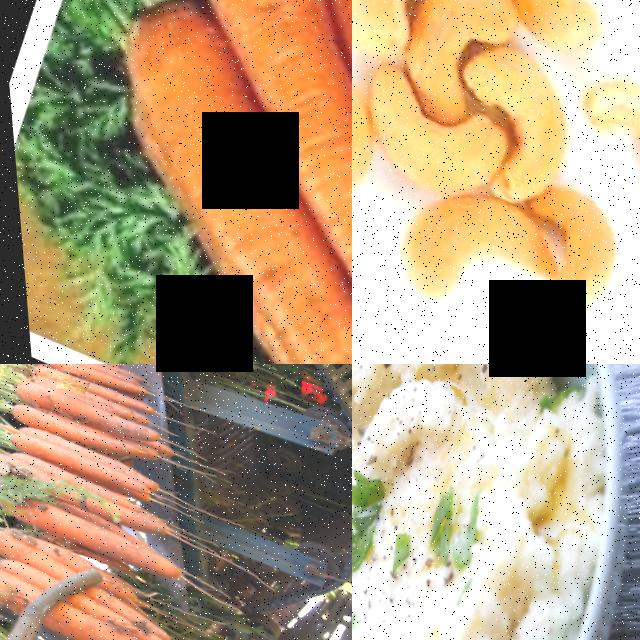carrot: (38, 95, 325, 361), (138, 0, 341, 125), (0, 481, 178, 576), (0, 364, 161, 454), (5, 426, 171, 511), (0, 447, 157, 534), (1, 395, 153, 472), (30, 593, 208, 640), (23, 364, 155, 419), (0, 519, 70, 574), (33, 364, 138, 397), (0, 551, 55, 588), (0, 557, 30, 614)
cashew: (433, 36, 598, 211), (384, 187, 559, 347), (543, 29, 640, 258), (352, 79, 497, 206), (462, 0, 640, 61)
